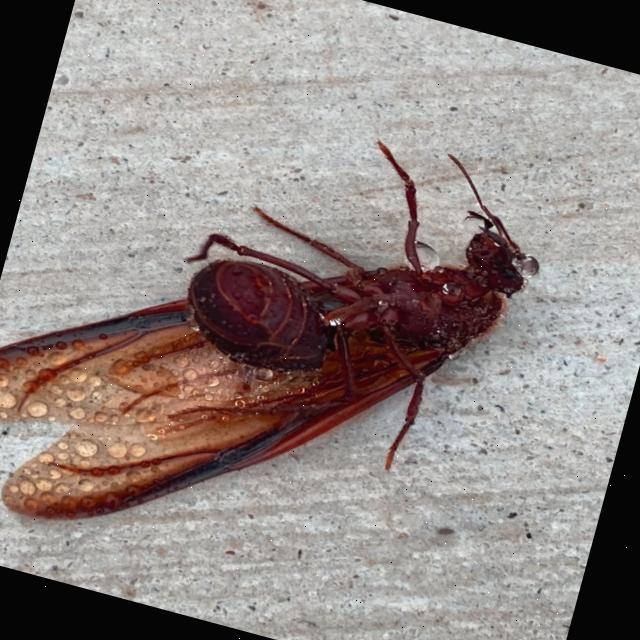Dead-Female-Alate: (0, 48, 561, 626)
